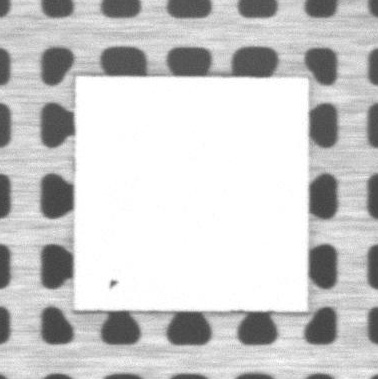DIE_INK: (108, 279, 117, 286)
